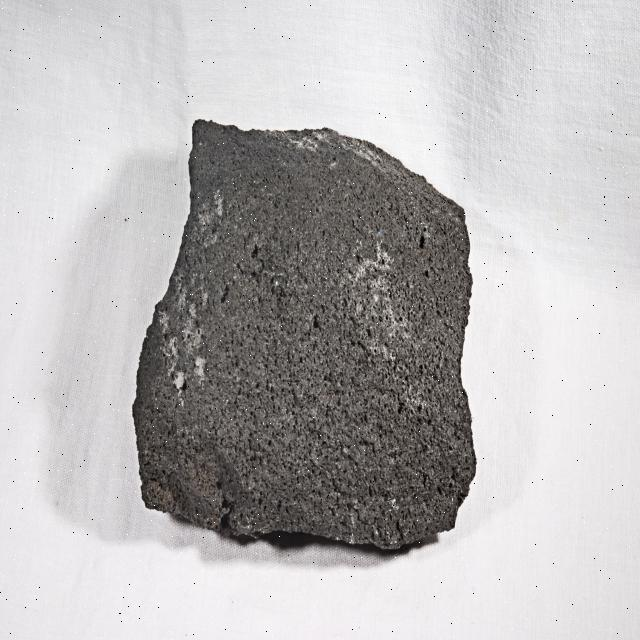Igneous: (117, 108, 474, 556)
